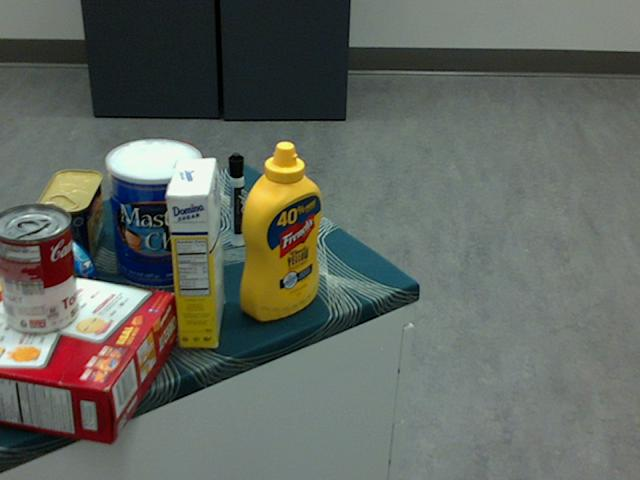cracker_box: (0, 263, 175, 444)
large_marker: (228, 152, 246, 245)
master_chef_can: (103, 138, 202, 290)
mug: (117, 141, 208, 222)
mustard_bottle: (239, 140, 322, 320)
potted_meat_can: (36, 168, 103, 272)
sugar_box: (164, 156, 225, 348)
tomato_soup_can: (0, 204, 78, 334)
tuna_fish_can: (10, 234, 97, 319)
